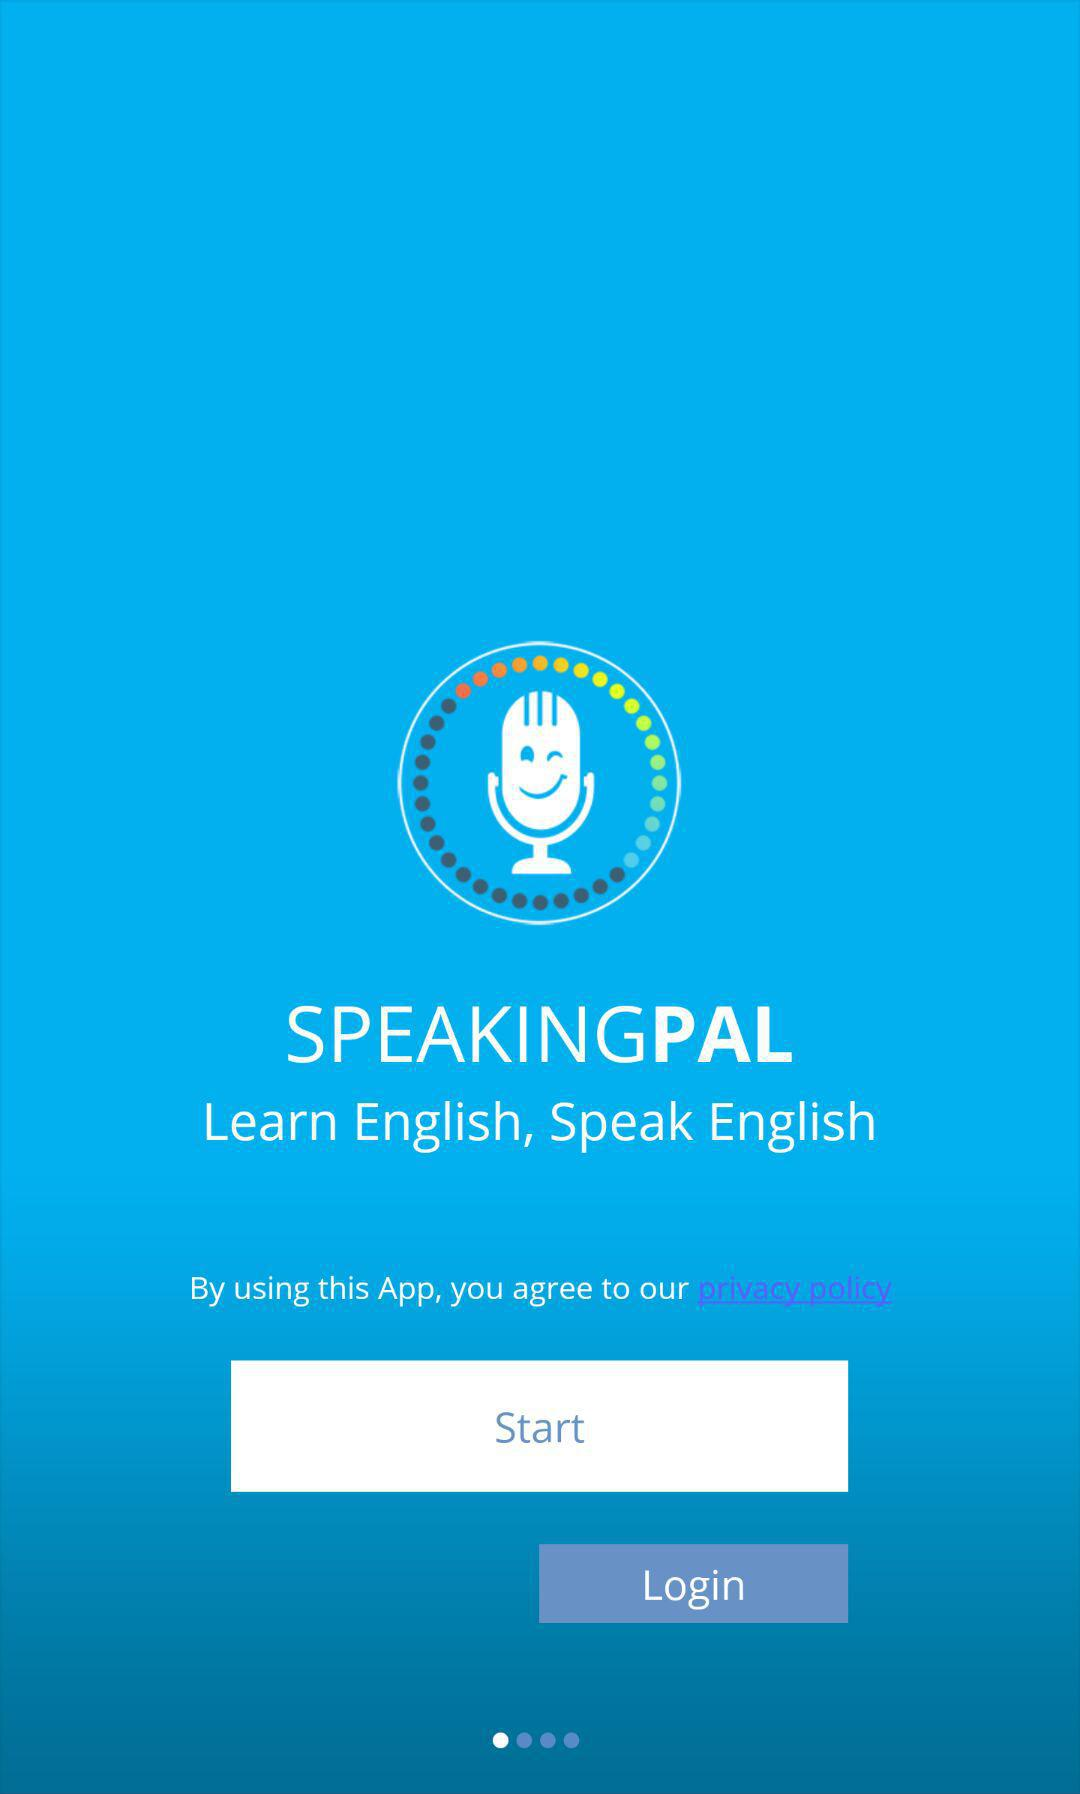Image: (395, 639, 684, 926)
PageIndicator: (492, 1731, 580, 1750)
Text: (206, 1099, 878, 1155), (284, 1005, 796, 1066), (190, 1272, 897, 1312)
TextButton: (231, 1360, 849, 1493), (539, 1544, 849, 1624)
